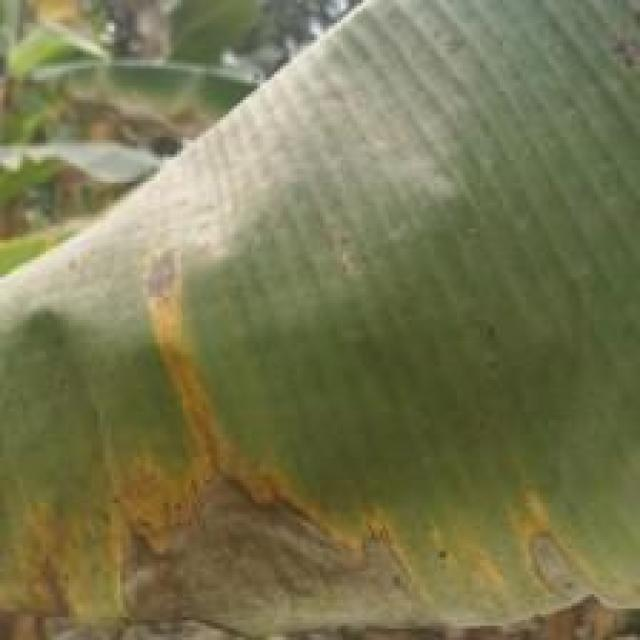Downey_mildrew: (0, 231, 640, 640), (597, 6, 640, 100)
